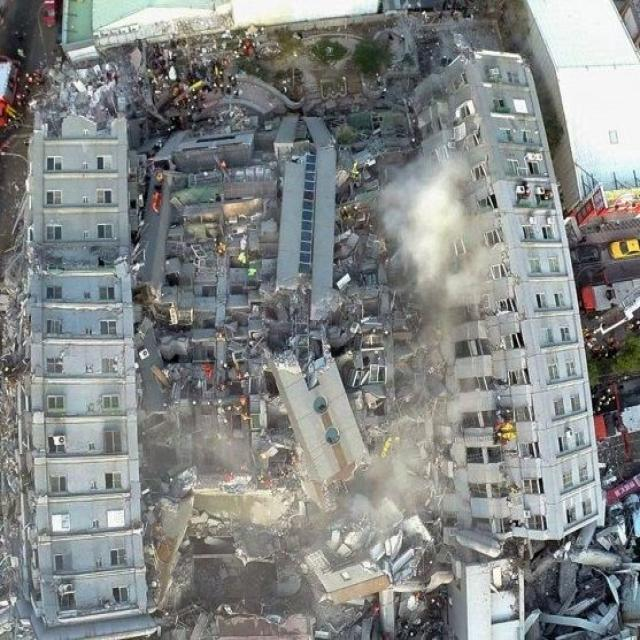collapsed_building: (19, 53, 593, 587)
